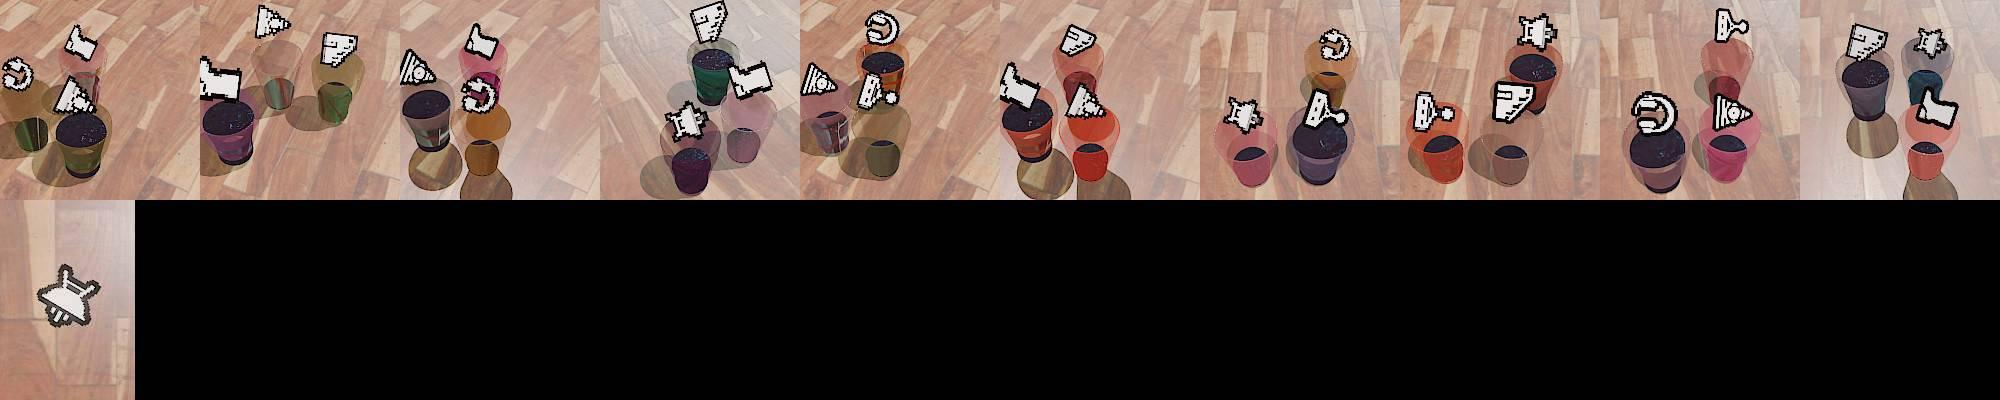icon: (36, 263, 101, 329), (1631, 91, 1680, 137), (999, 59, 1044, 109), (198, 55, 244, 101), (1300, 85, 1348, 129), (1491, 79, 1536, 124), (728, 59, 774, 100), (664, 99, 708, 141), (52, 74, 97, 115), (1412, 90, 1455, 132), (1844, 22, 1888, 62), (460, 73, 500, 116), (1712, 91, 1753, 132), (1224, 94, 1265, 134), (1517, 12, 1558, 52), (689, 1, 727, 44), (398, 47, 438, 86), (1066, 81, 1106, 120), (1917, 89, 1958, 126), (320, 31, 359, 68), (254, 3, 292, 40), (800, 62, 840, 97), (463, 22, 500, 59), (1057, 22, 1097, 56), (64, 23, 98, 62), (864, 10, 901, 45), (1714, 8, 1749, 44), (856, 71, 888, 110), (1914, 26, 1950, 60), (0, 56, 34, 92), (1319, 28, 1351, 62)
